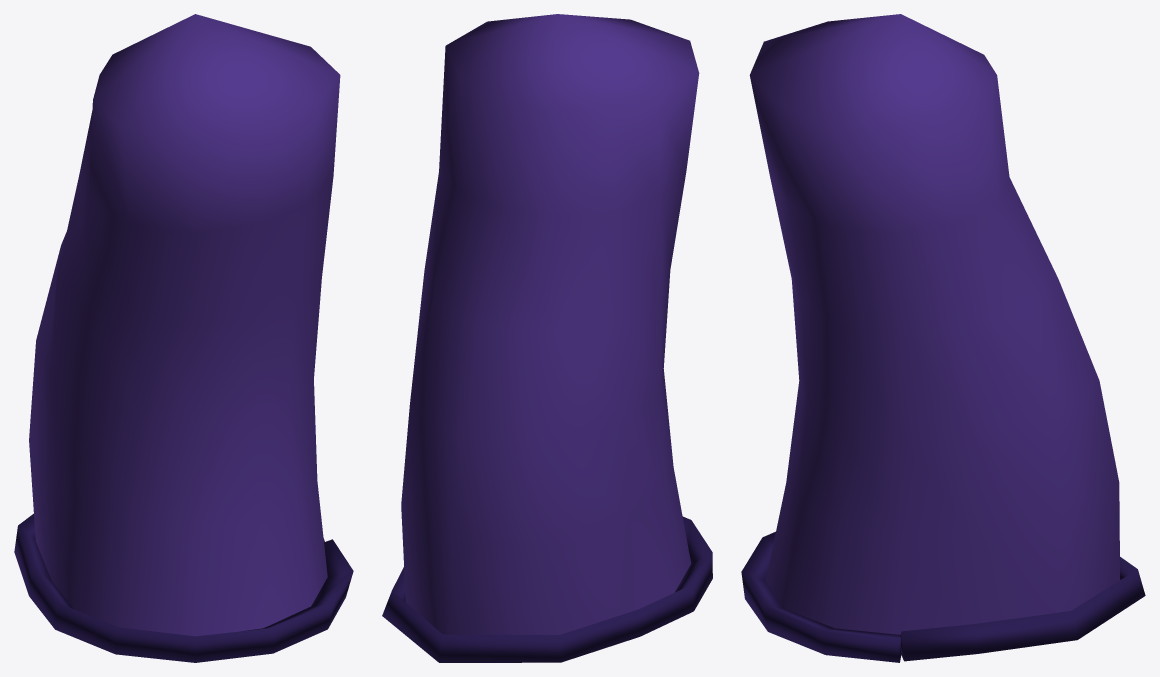
Rendered from beetle_armor_boot.R.glb.
The picture shows the model from 3 angles, left to right: view 1: azimuth 30°, elevation 25°; view 2: azimuth 150°, elevation 25°; view 3: azimuth 270°, elevation 25°; orthographic projection. The views are drawn at different scales.
Parts seen in each view (by area): view 1: beetle_armor_boot.R; view 2: beetle_armor_boot.R; view 3: beetle_armor_boot.R.
Boxes of the visible parts, left/top/right/bottom form: beetle_armor_boot.R: left=14, top=14, right=353, bottom=662; beetle_armor_boot.R: left=382, top=14, right=712, bottom=662; beetle_armor_boot.R: left=741, top=14, right=1145, bottom=662.
Bounding box in the file's own units: 0.147 × 0.2958 × 0.1849.
